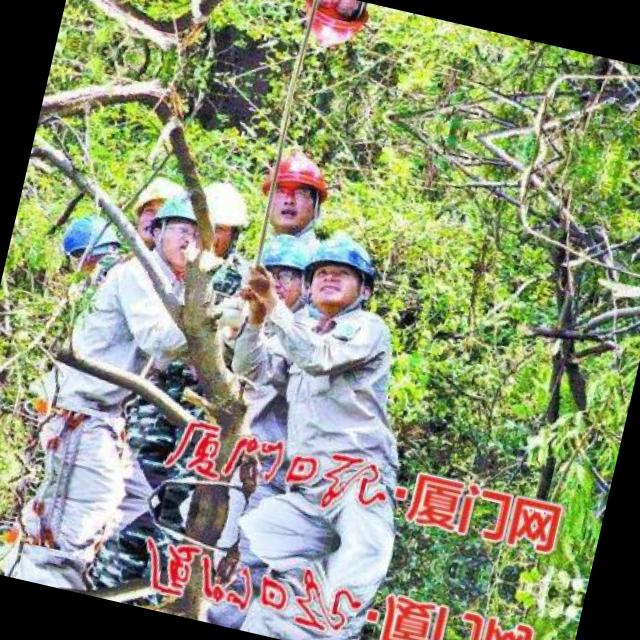helmet: (282, 221, 388, 325), (134, 172, 230, 275), (248, 142, 342, 246), (54, 212, 130, 288), (188, 180, 255, 260), (248, 225, 312, 308), (292, 0, 378, 59), (124, 170, 178, 240)
